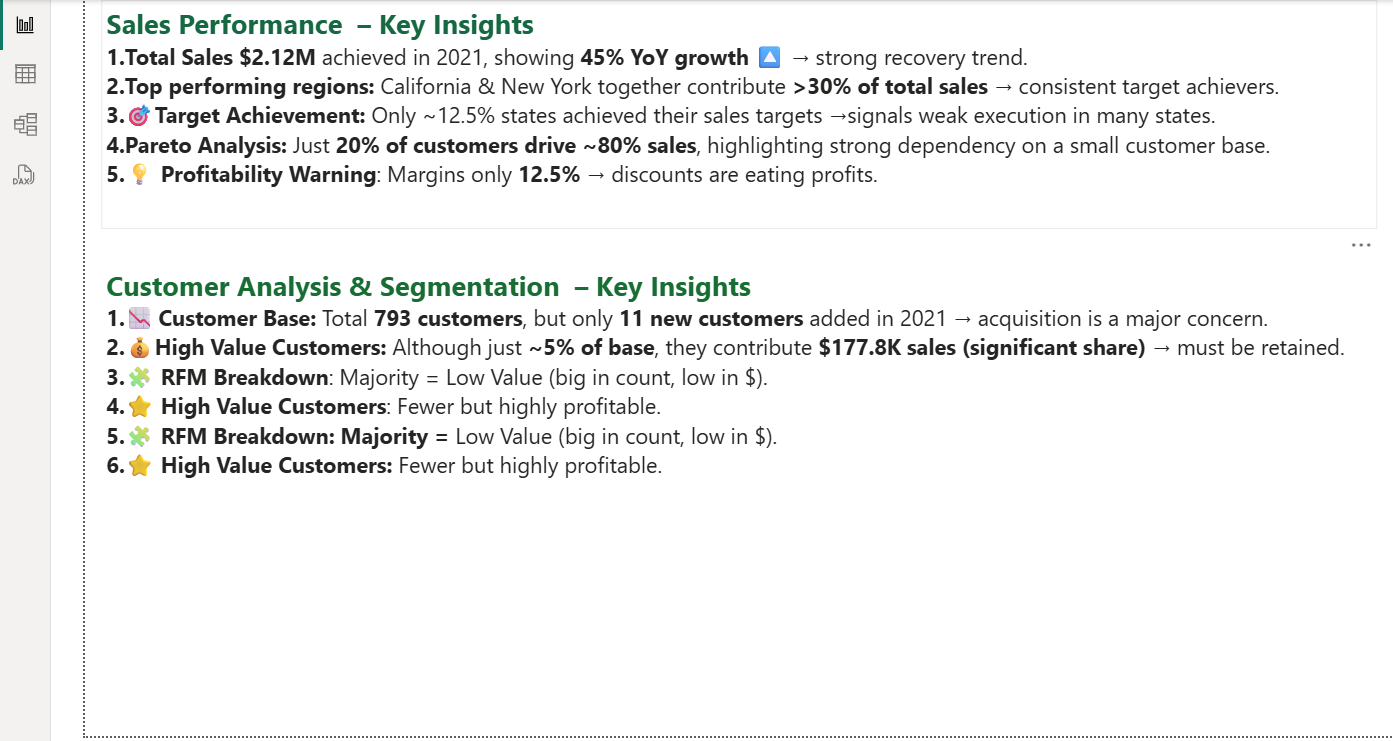

The page's visual inventory and layout, read from the dashboard file:
{"tool":"powerbi","page":{"name":"Key Insights ","canvas":[1280,720],"ordinal":2},"visuals":[{"type":"textbox","box":[16,0,1248,224],"z":0},{"type":"textbox","box":[16,256,1248,240],"z":1000}]}

Visuals, with their boxes on the page's 1280x720 design canvas (x1, y1, x2, y2). These are canvas units, not pixel positions in the 1393x741 screenshot, which may show the page scaled, cropped or inside an application window:
textbox: 16/0/1264/224
textbox: 16/256/1264/496
